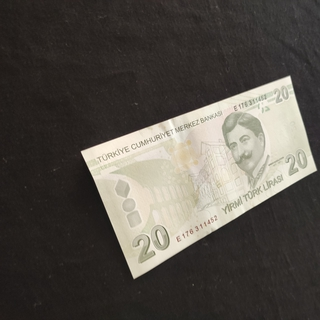20TLBack: (80, 74, 318, 280)
